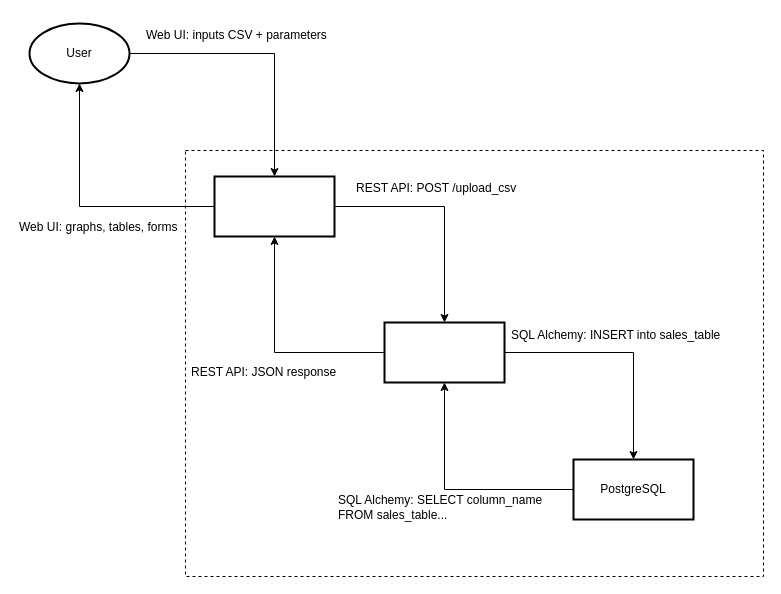
Some shapes in this 781 by 594 pixel diagram are drawn without their labels. Each missing label, with the centre of its shape:
"Backend (FastAPI)" belongs at pixel 444 352.
"Frontend (React)" belongs at pixel 274 206.
